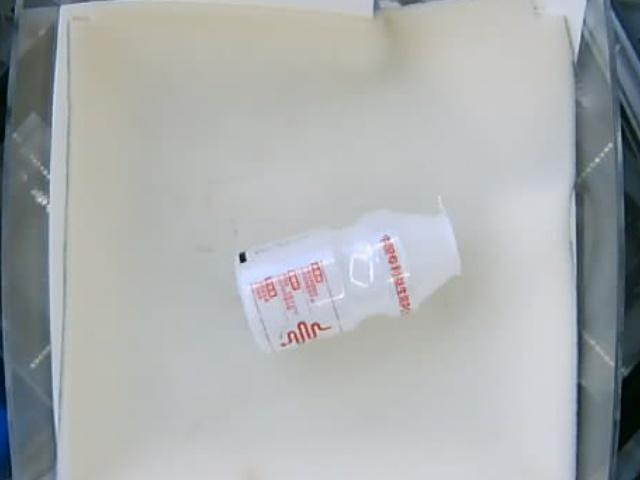Bottle: (233, 207, 466, 354)
